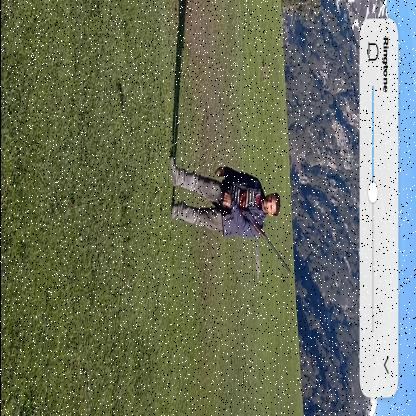rifle: (220, 190, 290, 275)
